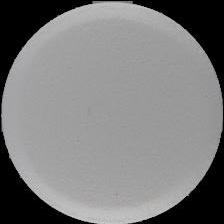0378-2474: (0, 0, 224, 224)
